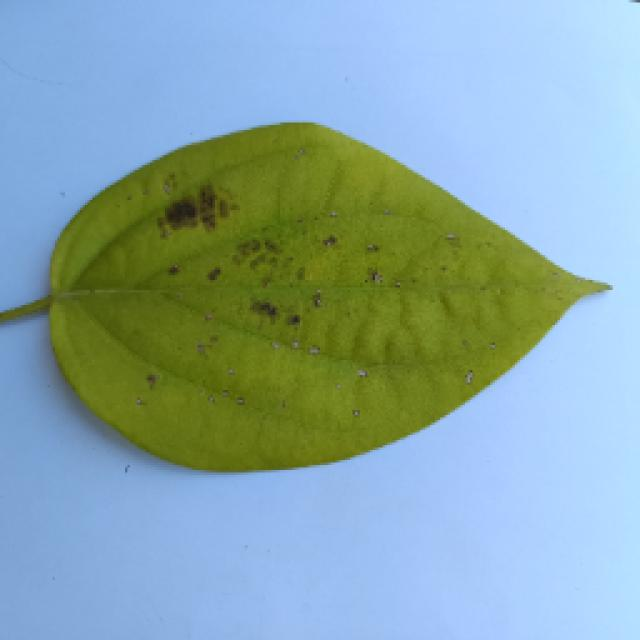slow-decline: (0, 107, 612, 470)
